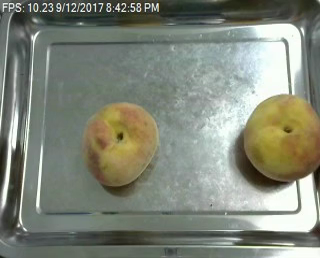Peach: (242, 92, 320, 182), (82, 101, 158, 187)
